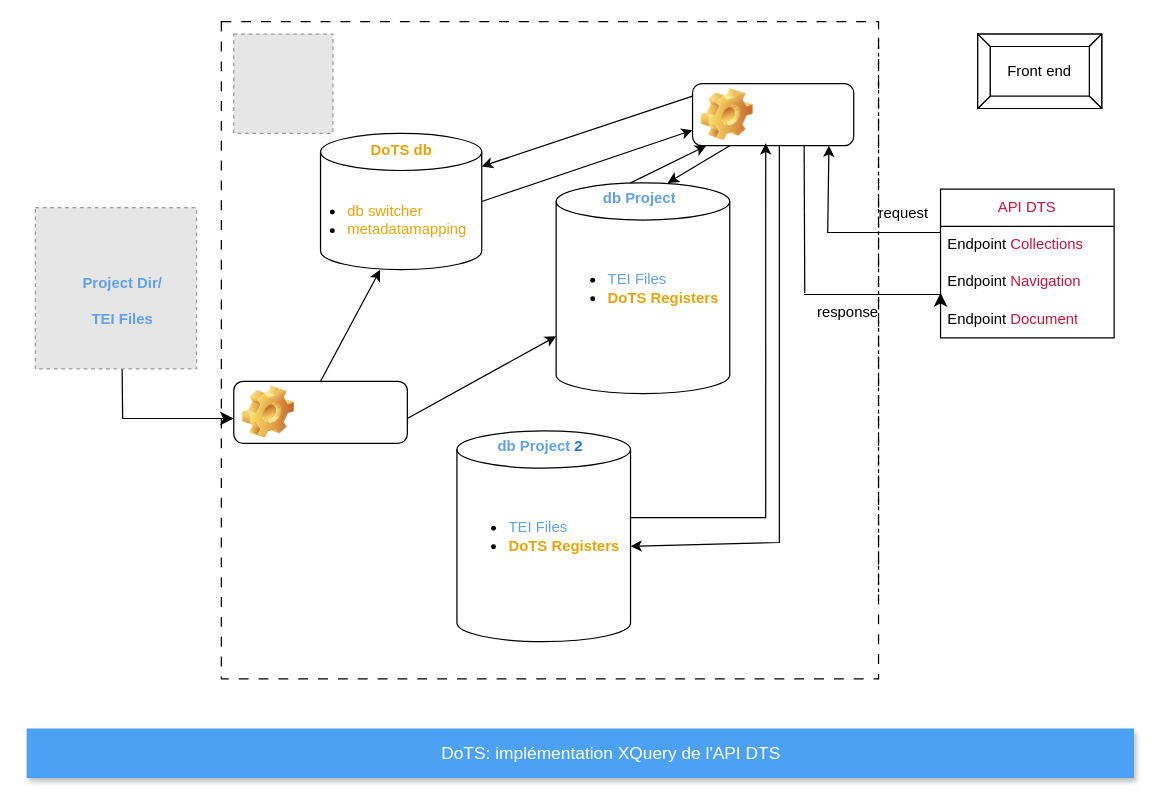
This 1162x808 diagram has some shape labels left out. Grey dashed boxes stand in for pictures. Each missing label, with the centre of its shape:
"DoTS API" goes at (x=772, y=114).
"DoTS Builder" goes at (x=319, y=411).
